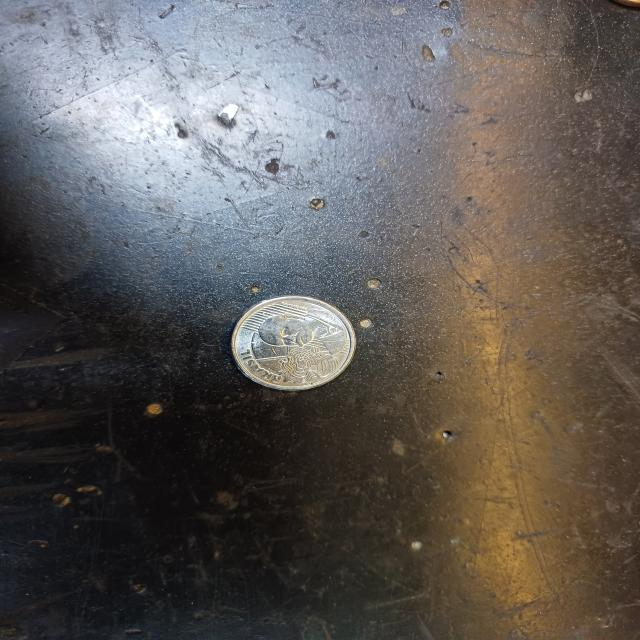50 cents: (227, 292, 366, 393)
